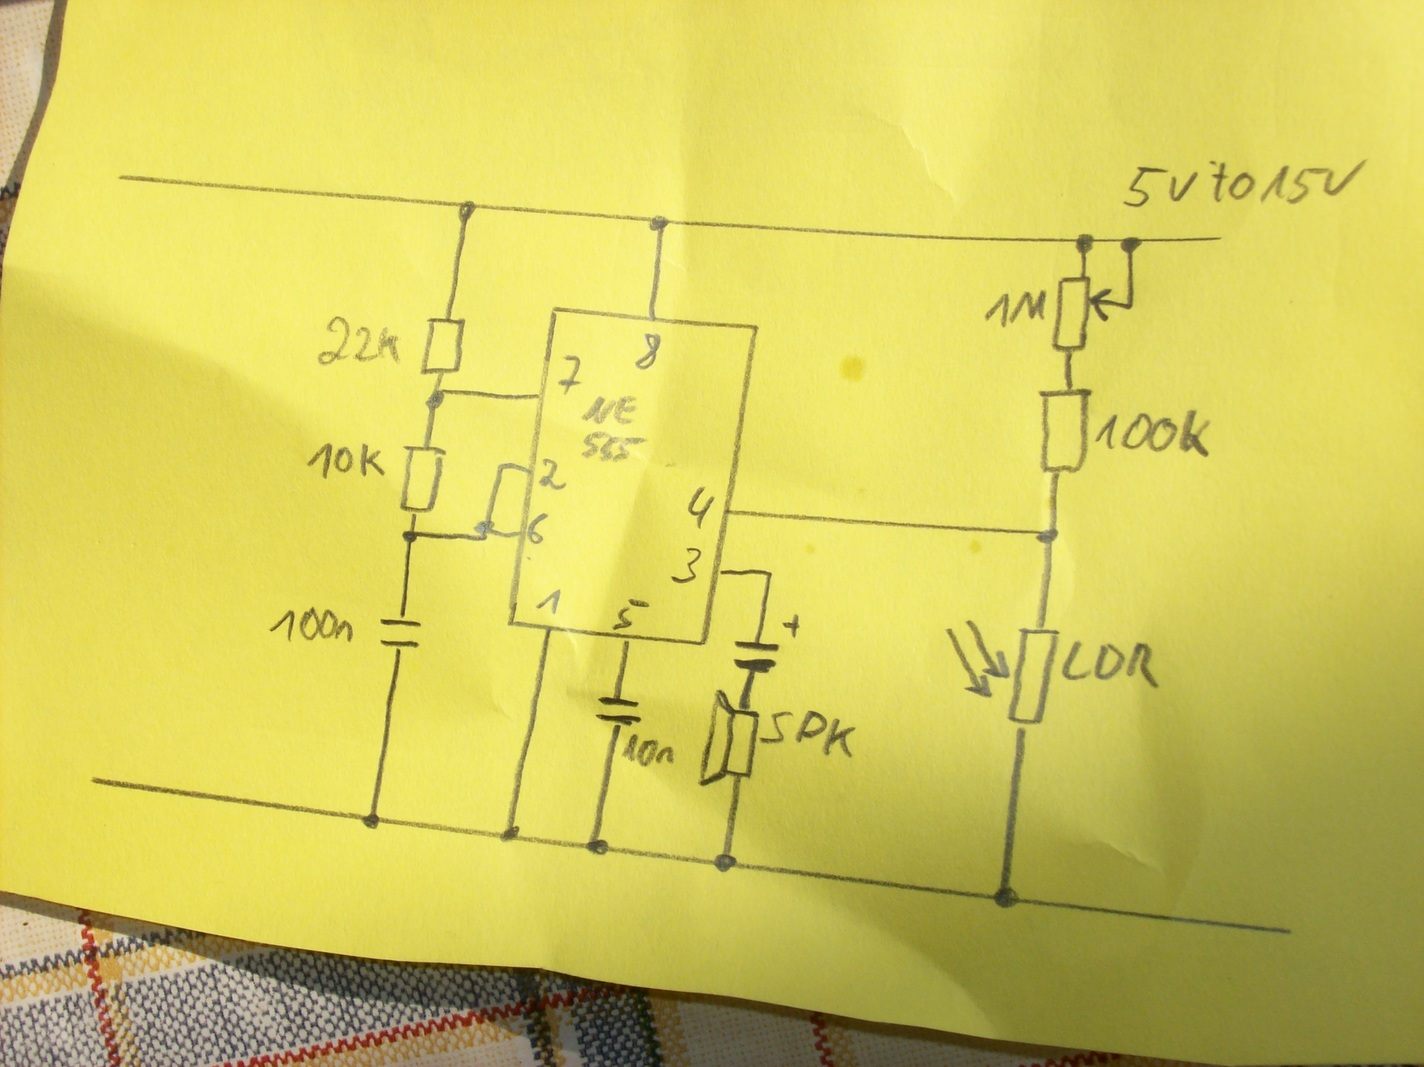capacitor.polarized: (732, 615, 802, 674)
capacitor.unpolarized: (376, 612, 424, 655), (593, 692, 644, 729)
integrated_cricuit.ne555: (505, 306, 758, 646)
junction: (992, 884, 1021, 913), (583, 836, 612, 859), (424, 387, 449, 411), (473, 519, 497, 542), (713, 852, 738, 874), (497, 825, 523, 846), (1117, 235, 1143, 256), (359, 809, 381, 832), (457, 198, 477, 223), (648, 213, 670, 234), (1074, 232, 1095, 256), (1035, 526, 1058, 546), (400, 528, 420, 544), (760, 565, 778, 581), (495, 461, 509, 475)
resistor: (1037, 386, 1093, 476), (397, 440, 448, 517), (418, 315, 467, 378)
resistor.adjustable: (1050, 272, 1138, 355)
resistor.photo: (944, 618, 1060, 732)
speaker: (697, 687, 762, 788)
terminal: (1209, 230, 1234, 247), (1281, 924, 1302, 941), (86, 771, 108, 789), (113, 170, 134, 186)
text: (1120, 159, 1371, 210), (1093, 407, 1214, 460), (1060, 639, 1161, 692), (760, 708, 858, 760), (315, 314, 403, 368), (580, 395, 646, 465), (267, 607, 356, 644), (305, 440, 387, 481), (983, 288, 1048, 330), (621, 733, 677, 769), (686, 485, 717, 531), (669, 546, 702, 585), (612, 599, 650, 632), (633, 331, 663, 371), (557, 353, 583, 396), (538, 457, 569, 491), (532, 588, 562, 618), (525, 511, 550, 546)
